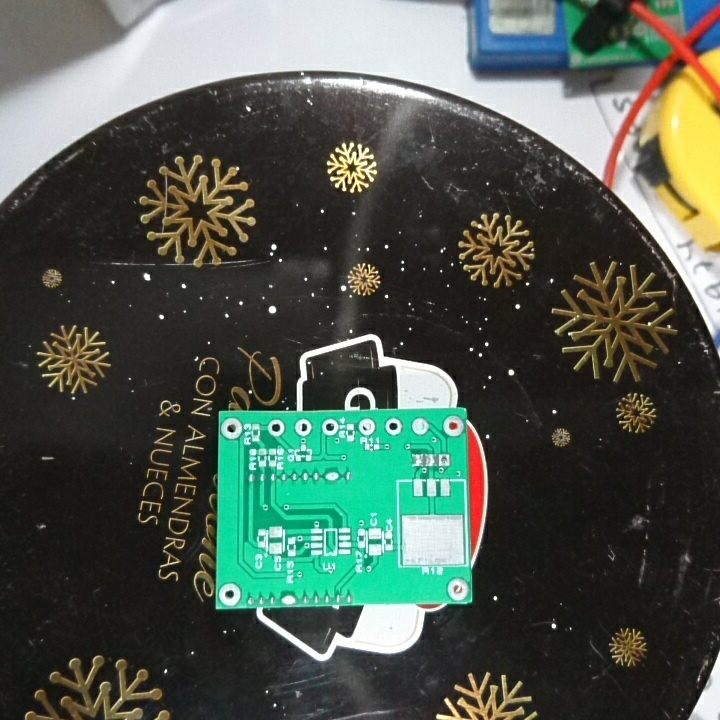F: (444, 575, 471, 604), (217, 580, 244, 609), (218, 416, 244, 446), (441, 412, 467, 438), (291, 416, 316, 440), (382, 415, 404, 440), (266, 416, 287, 442), (409, 416, 430, 439), (357, 415, 377, 438), (319, 416, 339, 438), (436, 450, 451, 472)
P: (321, 467, 343, 487), (279, 591, 299, 608)
